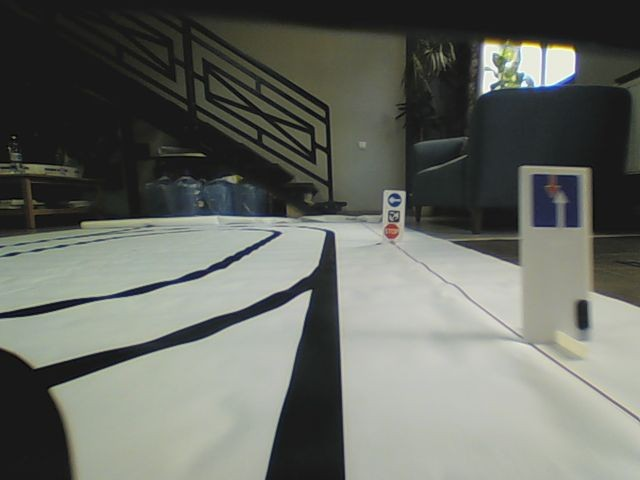Stop: (384, 223, 400, 238)
priority_movement: (530, 171, 584, 230)
